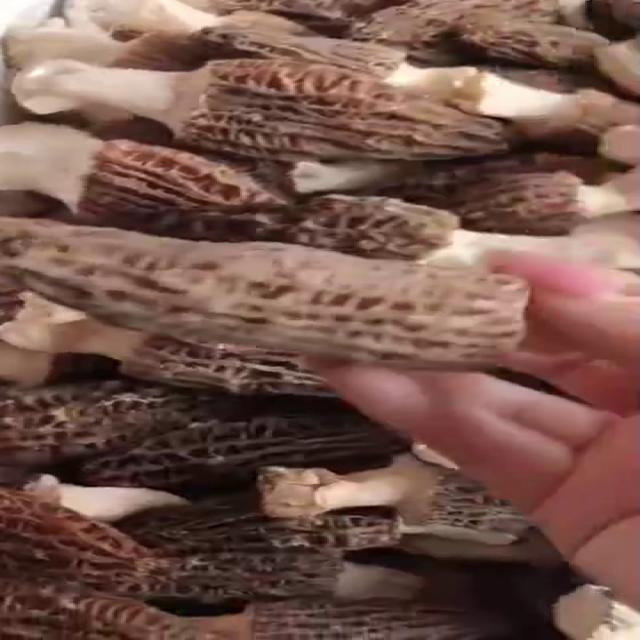Morchella esculenta: (0, 214, 539, 364), (13, 55, 504, 162), (0, 121, 295, 237)
